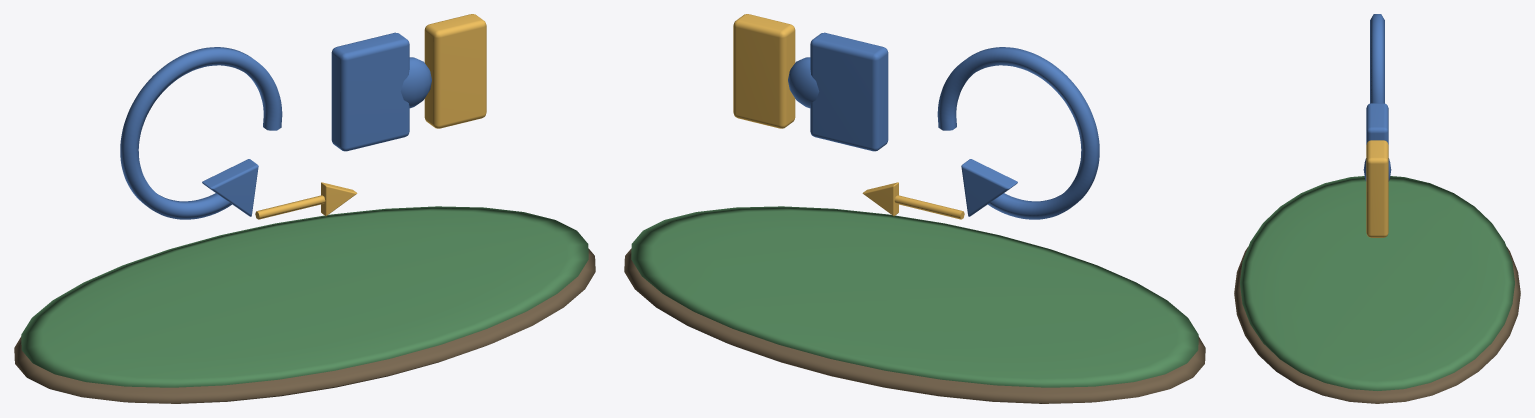
Rendered from complete-second-changing-shape.glb.
3 renders of one model, left to right at view 1: azimuth 30°, elevation 25°; view 2: azimuth 150°, elevation 25°; view 3: azimuth 270°, elevation 25°, orthographic. The views are drawn at different scales.
Parts seen in each view (by area): view 1: complete-second-changing-shape_surface_01, complete-second-changing-shape_surface_02, complete-second-changing-shape_surface_00, complete-second-changing-shape_surface_03; view 2: complete-second-changing-shape_surface_01, complete-second-changing-shape_surface_02, complete-second-changing-shape_surface_00, complete-second-changing-shape_surface_03; view 3: complete-second-changing-shape_surface_01, complete-second-changing-shape_surface_00, complete-second-changing-shape_surface_02, complete-second-changing-shape_surface_03.
Part boxes in pixels (<box>): complete-second-changing-shape_surface_01: <box>21,206,588,387</box>; complete-second-changing-shape_surface_02: <box>120,32,431,219</box>; complete-second-changing-shape_surface_00: <box>14,248,595,403</box>; complete-second-changing-shape_surface_03: <box>255,14,486,219</box>; complete-second-changing-shape_surface_01: <box>631,206,1198,387</box>; complete-second-changing-shape_surface_02: <box>788,32,1099,219</box>; complete-second-changing-shape_surface_00: <box>624,248,1205,403</box>; complete-second-changing-shape_surface_03: <box>733,14,964,219</box>; complete-second-changing-shape_surface_01: <box>1240,176,1514,390</box>; complete-second-changing-shape_surface_00: <box>1234,247,1520,403</box>; complete-second-changing-shape_surface_02: <box>1363,14,1391,181</box>; complete-second-changing-shape_surface_03: <box>1366,140,1388,237</box>.
Bounding box in the file's own units: 4.56 × 2.36 × 2.5.
